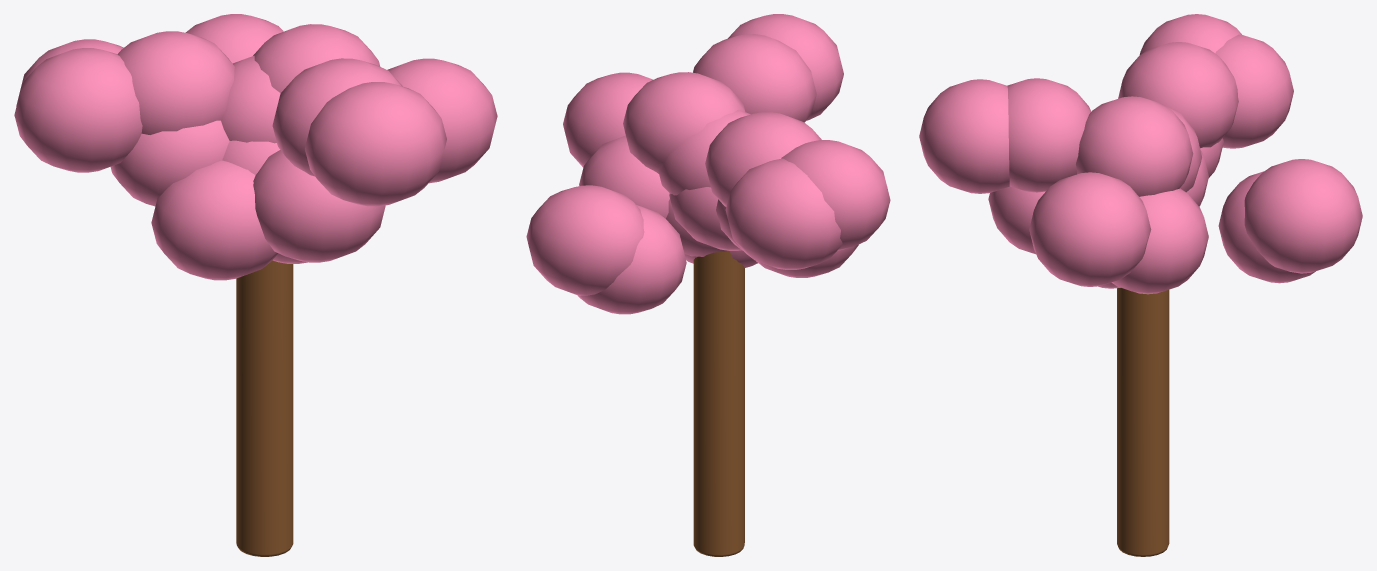
The model's file is JPN-17.glb.
The picture shows the model from 3 angles, left to right: view 1: azimuth 30°, elevation 25°; view 2: azimuth 150°, elevation 25°; view 3: azimuth 270°, elevation 25°; orthographic projection. The views are drawn at different scales.
Parts seen in each view (by area): view 1: trunk, blossom cluster.011, blossom cluster.009, blossom cluster.017, blossom cluster.012, blossom cluster.001, blossom cluster.016, blossom cluster.004, blossom cluster.006, blossom cluster.010, blossom cluster.014, blossom cluster.005 (+2 smaller); view 2: trunk, blossom cluster.005, blossom cluster.002, blossom cluster.010, blossom cluster.006, blossom cluster.009, blossom cluster.015, blossom cluster.001, blossom cluster.016, blossom cluster.011, blossom cluster, blossom cluster.014 (+3 smaller); view 3: trunk, blossom cluster.016, blossom cluster.005, blossom cluster.010, blossom cluster.011, blossom cluster.006, blossom cluster.001, blossom cluster, blossom cluster.002, blossom cluster.015, blossom cluster.009, blossom cluster.012 (+2 smaller).
Part boxes in pixels (bbox=[...]): trunk: bbox=[236, 260, 293, 556]; blossom cluster.011: bbox=[305, 82, 446, 206]; blossom cluster.009: bbox=[14, 48, 142, 172]; blossom cluster.017: bbox=[151, 160, 278, 280]; blossom cluster.012: bbox=[253, 150, 385, 262]; blossom cluster.001: bbox=[117, 31, 234, 134]; blossom cluster.016: bbox=[387, 58, 497, 183]; blossom cluster.004: bbox=[110, 120, 229, 206]; blossom cluster.006: bbox=[272, 58, 402, 176]; blossom cluster.010: bbox=[253, 24, 380, 93]; blossom cluster.014: bbox=[221, 55, 280, 143]; blossom cluster.005: bbox=[185, 14, 283, 63]; trunk: bbox=[693, 250, 744, 556]; blossom cluster.005: bbox=[526, 185, 644, 295]; blossom cluster.002: bbox=[725, 158, 842, 269]; blossom cluster.010: bbox=[623, 72, 745, 173]; blossom cluster.006: bbox=[693, 34, 816, 122]; blossom cluster.009: bbox=[781, 140, 890, 250]; blossom cluster.015: bbox=[577, 205, 686, 314]; blossom cluster.001: bbox=[705, 112, 821, 206]; blossom cluster.016: bbox=[563, 72, 653, 167]; blossom cluster.011: bbox=[728, 14, 843, 120]; blossom cluster: bbox=[579, 135, 669, 218]; blossom cluster.014: bbox=[658, 110, 750, 195]; trunk: bbox=[1117, 288, 1169, 556]; blossom cluster.016: bbox=[1029, 172, 1151, 286]; blossom cluster.005: bbox=[1244, 159, 1362, 273]; blossom cluster.010: bbox=[1076, 96, 1193, 196]; blossom cluster.011: bbox=[919, 79, 1009, 193]; blossom cluster.006: bbox=[1007, 78, 1091, 192]; blossom cluster.001: bbox=[1118, 42, 1238, 148]; blossom cluster: bbox=[1111, 188, 1208, 294]; blossom cluster.002: bbox=[1215, 34, 1293, 148]; blossom cluster.015: bbox=[1218, 171, 1315, 283]; blossom cluster.009: bbox=[1139, 14, 1241, 54]; blossom cluster.012: bbox=[988, 186, 1045, 254].
Size of the model in its own units: 2.46 by 2.99 by 2.55.
